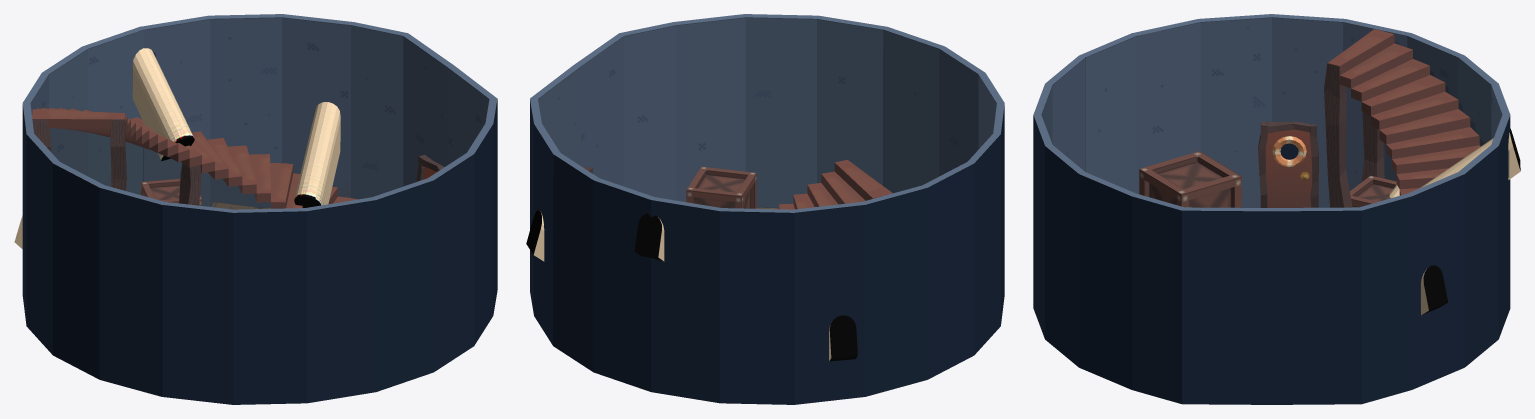
Rendered from FLOOR1_LighthouseINSIDE.fbx.
3 views of the same model, side by side, from view 1: azimuth 30°, elevation 25°; view 2: azimuth 150°, elevation 25°; view 3: azimuth 270°, elevation 25° (orthographic).
Visible parts, largest first — view 1: pCylinder1, stairs, ray_2, ray_3, pCube237, polySurface7; view 2: pCylinder1, stairs, pCube240, ray_1, ray_2, ray_3; view 3: pCylinder1, stairs, polySurface1, pCube239_1, ray_3, pCube239, ray_2.
Boxes of the visible parts, <box> form: pCylinder1: <box>22,14,497,404</box>; stairs: <box>32,108,357,208</box>; ray_2: <box>132,48,194,160</box>; ray_3: <box>294,102,340,207</box>; pCube237: <box>141,178,202,205</box>; polySurface7: <box>416,154,444,181</box>; pCylinder1: <box>530,14,1004,404</box>; stairs: <box>779,159,892,209</box>; pCube240: <box>686,166,756,208</box>; ray_1: <box>829,315,857,361</box>; ray_2: <box>634,213,664,261</box>; ray_3: <box>526,210,544,261</box>; pCylinder1: <box>1033,14,1510,404</box>; stairs: <box>1324,29,1480,207</box>; polySurface1: <box>1258,121,1318,207</box>; pCube239_1: <box>1139,151,1241,207</box>; ray_3: <box>1421,265,1447,315</box>; pCube239: <box>1350,175,1396,207</box>; ray_2: <box>1420,128,1520,187</box>.
Bounding box in the file's own units: 1255 × 600 × 1309.
17 materials, 17 textured.
